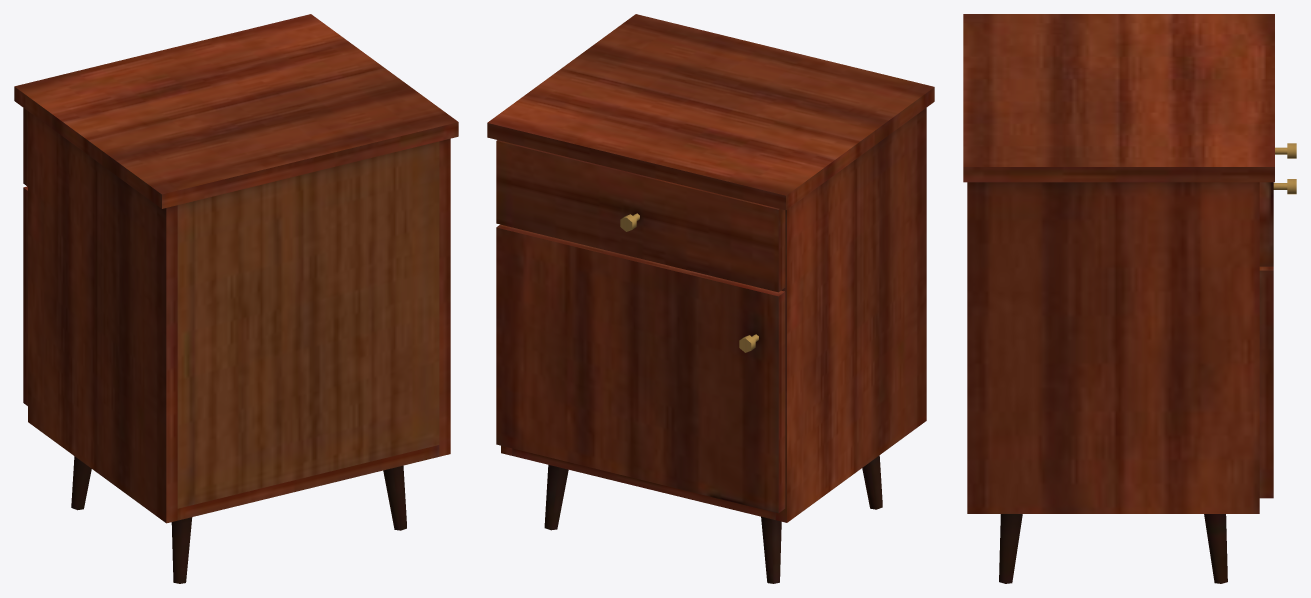
Rendered from nightstand_lod1_web.glb.
3 views of the same model, side by side, from view 1: azimuth 30°, elevation 25°; view 2: azimuth 150°, elevation 25°; view 3: azimuth 270°, elevation 25° (orthographic). The views are drawn at different scales.
Visible parts, largest first — view 1: Nightstand_Body, Door_1_Mesh; view 2: Nightstand_Body, Door_1_Mesh, Drawer_1_Mesh; view 3: Nightstand_Body, Door_1_Mesh, Drawer_1_Mesh.
Boxes of the visible parts, bbox=[...] form: Nightstand_Body: bbox=[14, 14, 458, 583]; Door_1_Mesh: bbox=[23, 186, 27, 405]; Nightstand_Body: bbox=[487, 14, 934, 583]; Door_1_Mesh: bbox=[496, 224, 785, 513]; Drawer_1_Mesh: bbox=[496, 140, 785, 292]; Nightstand_Body: bbox=[963, 14, 1274, 583]; Door_1_Mesh: bbox=[1259, 266, 1273, 498]; Drawer_1_Mesh: bbox=[1259, 182, 1273, 266].
Bounding box in the file's own units: 0.47 × 0.6231 × 0.433.
2 materials, 2 textured.
